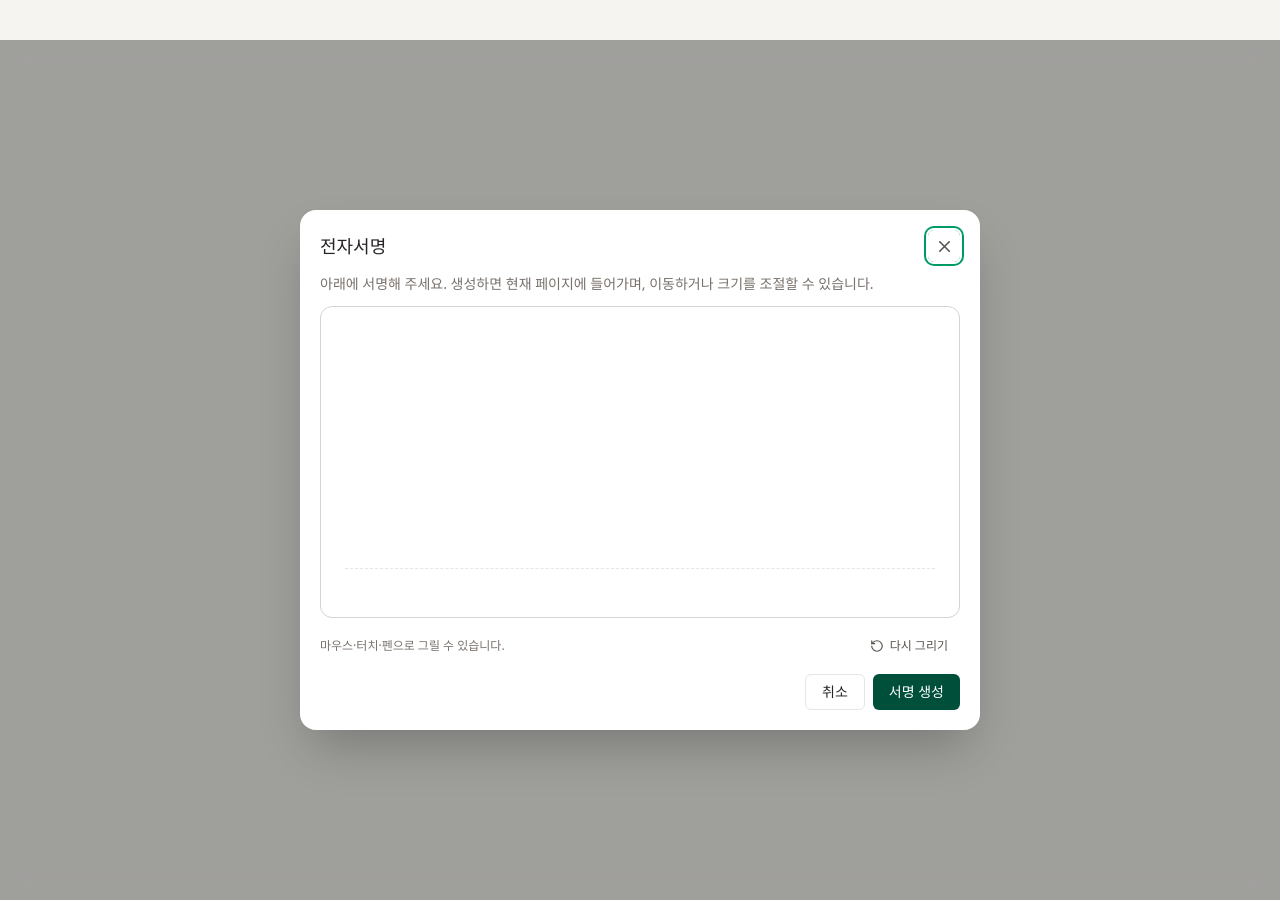
Test case: keeps drawn strokes on insertion failure and releases signature listeners on unmount
expect the drawing named "서명 그리기 영역" is shown: met, box 321,307 -> 959,617
Click the button "서명 생성". click: (916,692)
box: 873,674 -> 960,710
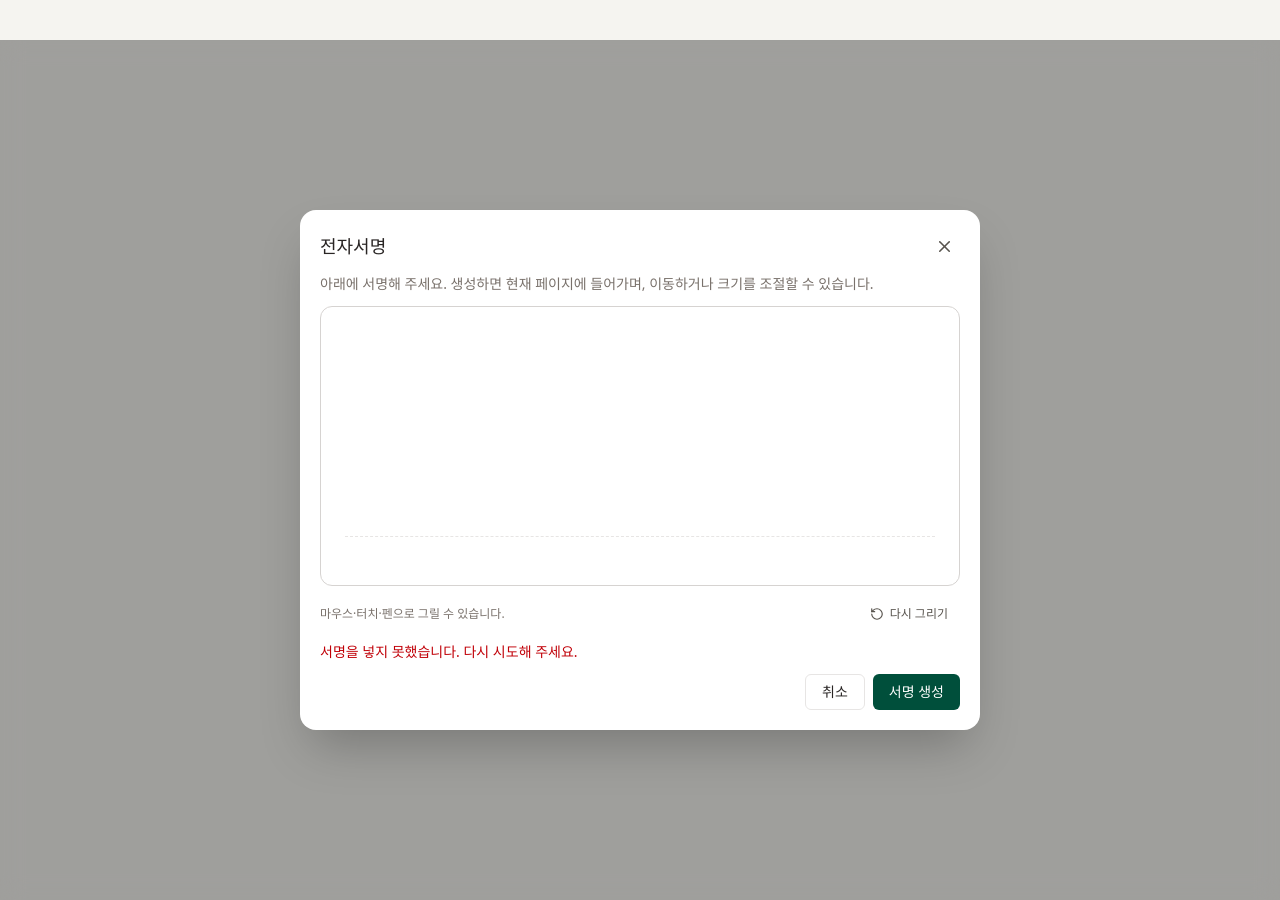
expect the message "서명을 넣지 못했습니다. 다시 시도해 주세요." is shown: met, box 320,642 -> 578,661
